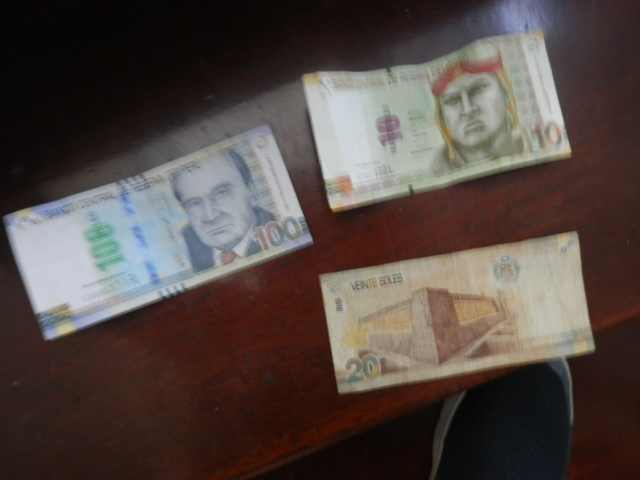B10: (290, 51, 590, 197)
B100: (10, 135, 313, 343)
B20: (316, 240, 604, 390)
